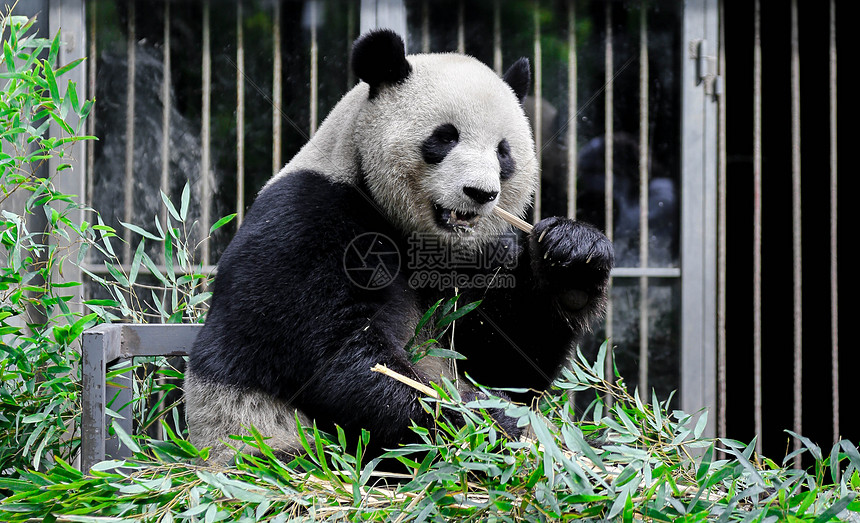panda: (156, 9, 627, 465)
